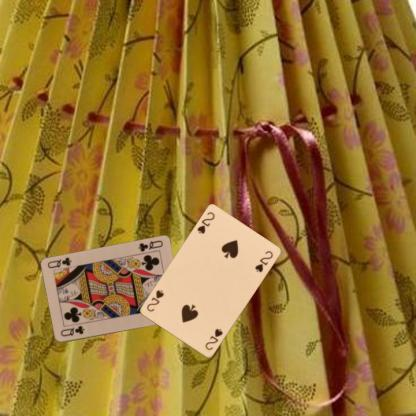2s: (203, 326, 224, 352), (195, 210, 216, 235)
Qc: (135, 238, 164, 253), (58, 323, 85, 338)
